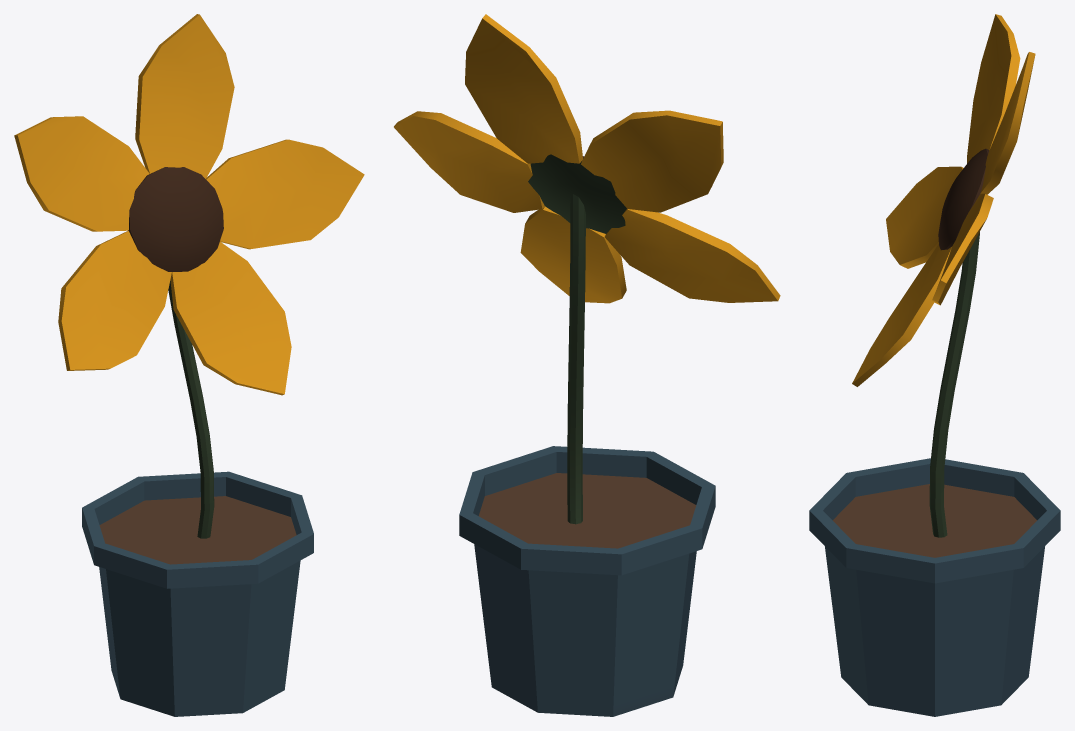
Rendered from kwiatek.fbx.
3 views of the same model, side by side, from view 1: azimuth 30°, elevation 25°; view 2: azimuth 150°, elevation 25°; view 3: azimuth 270°, elevation 25° (orthographic). The views are drawn at different scales.
Visible parts, largest first — view 1: BézierCurve.001; view 2: BézierCurve.001; view 3: BézierCurve.001.
Boxes of the visible parts, left/top/right/bottom form: BézierCurve.001: left=14, top=14, right=364, bottom=716; BézierCurve.001: left=394, top=14, right=780, bottom=716; BézierCurve.001: left=809, top=14, right=1060, bottom=716.
Size of the model in its own units: 95.64 by 148 by 273.
